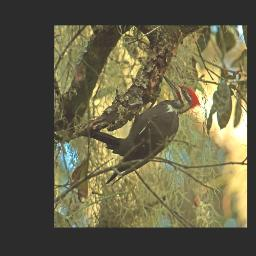Woodpecker: (103, 75, 201, 186)
